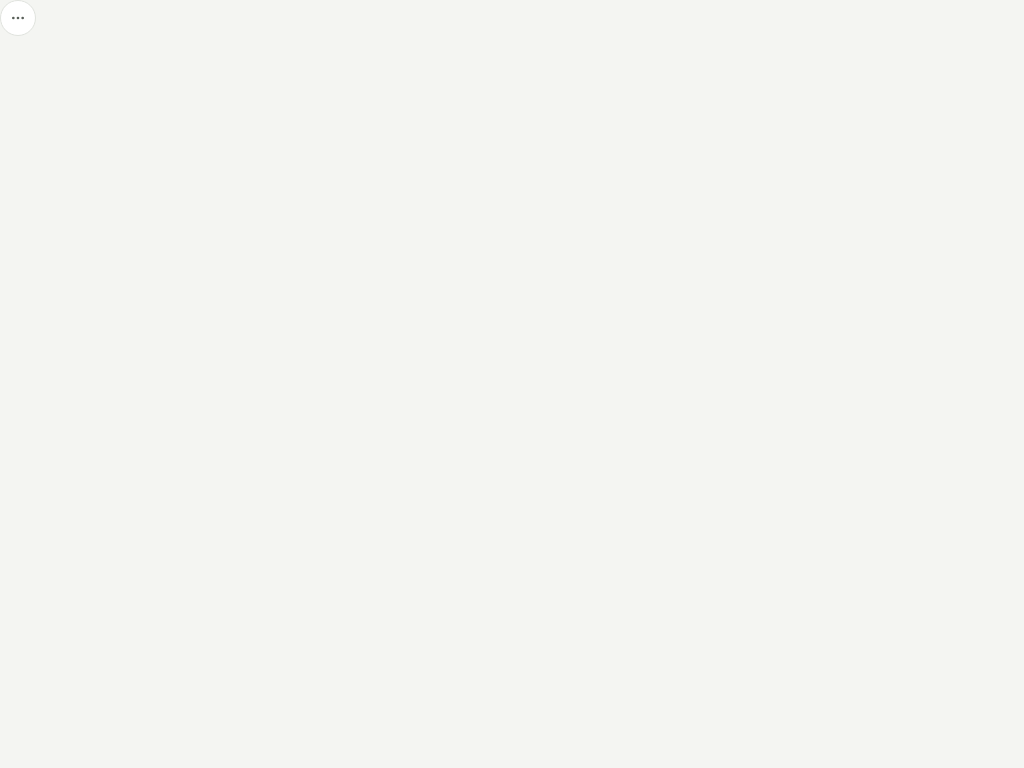
duplicating an event › sends the name, the new start and what to copy, then opens the copy as a draft
Press Enter in the button named "More for Hack Night 04", box [0, 0, 36, 36]
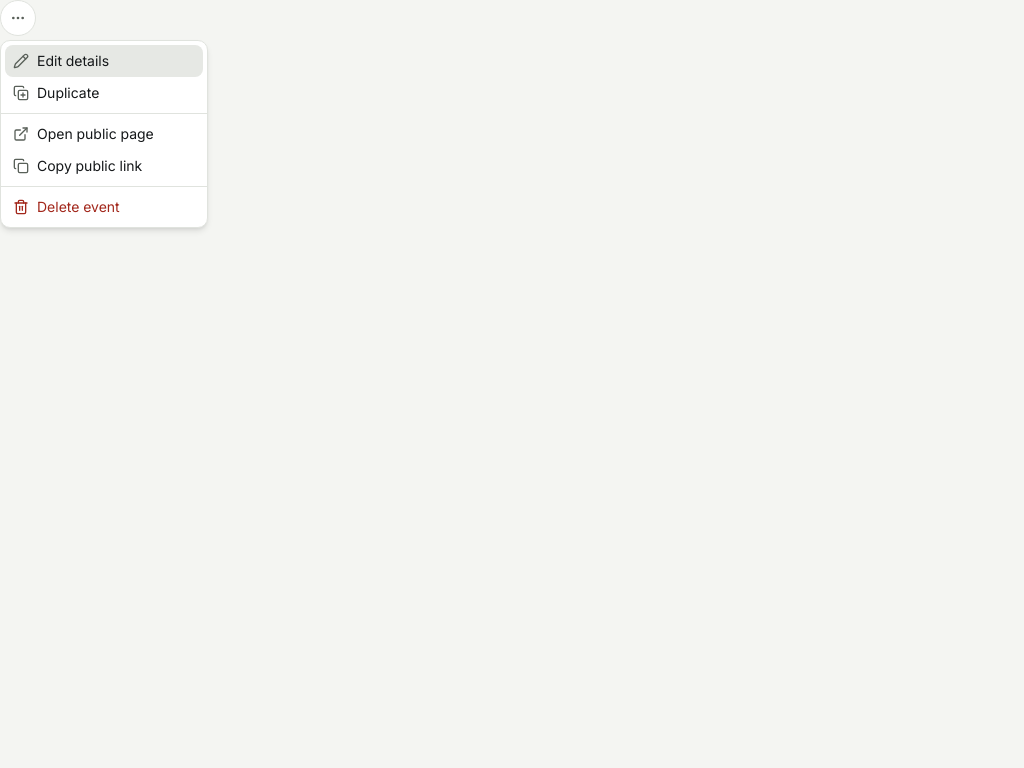
Click the menu item "Duplicate" at [56, 92], box [13, 84, 99, 101]
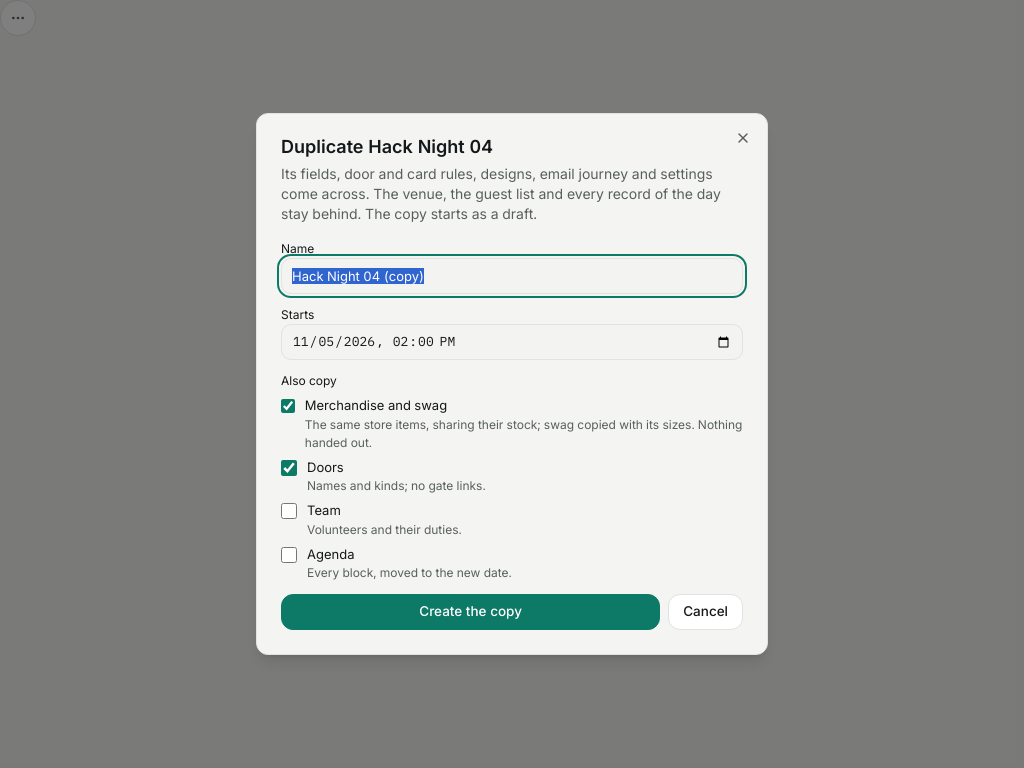
Replace the text in the field labelled "Name" with "  Hack Night 05 " at [512, 276], box [281, 258, 743, 294]
Replace the text in the field labelled "Starts" with "2026-12-04T18:30" at [512, 342], box [281, 324, 743, 360]
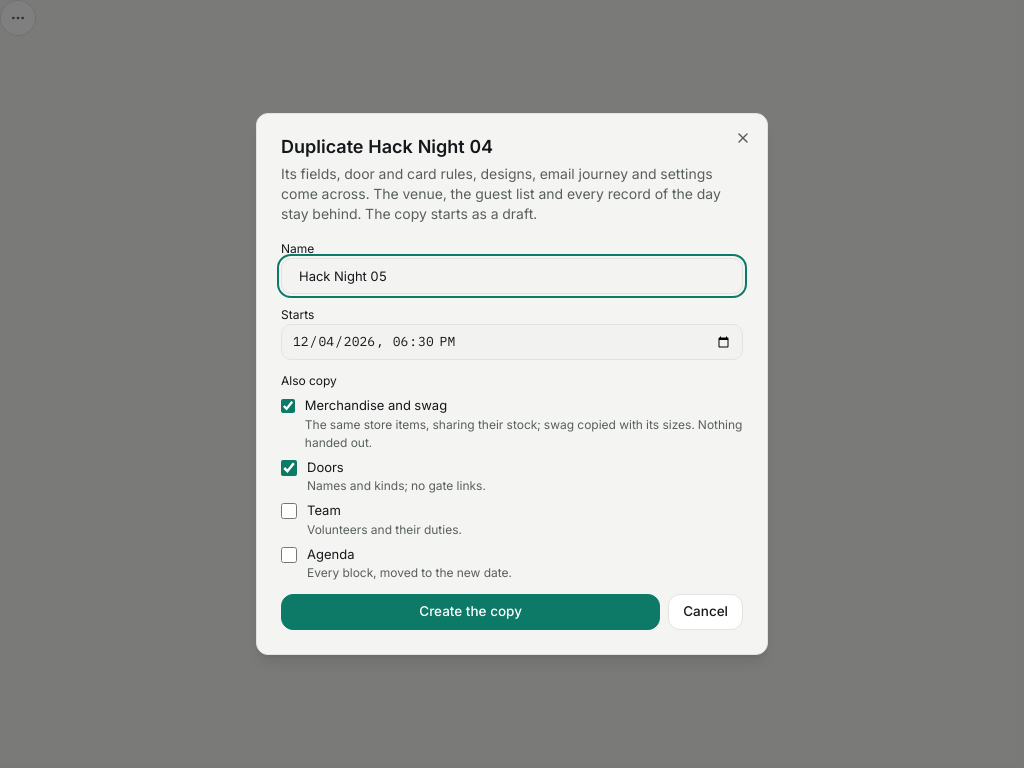
Click the checkbox labelled "Merchandise and swag" at [288, 406], box [281, 398, 295, 414]
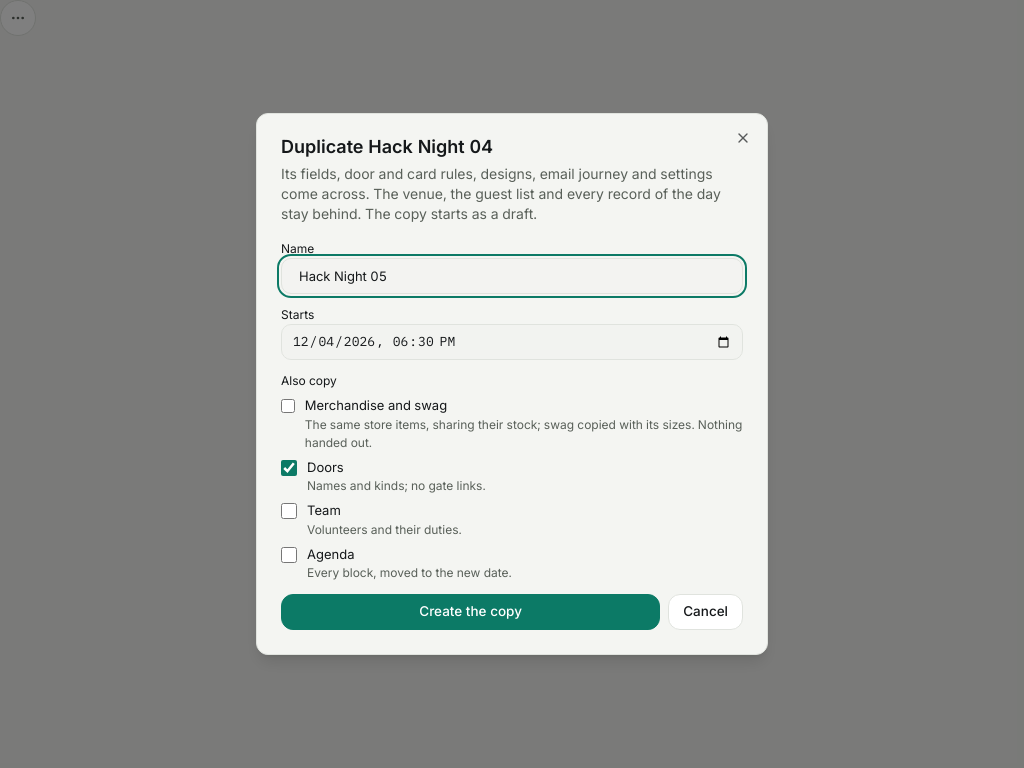
Click the checkbox labelled "Team Volunteers and their duties." at [289, 511], box [281, 503, 297, 519]
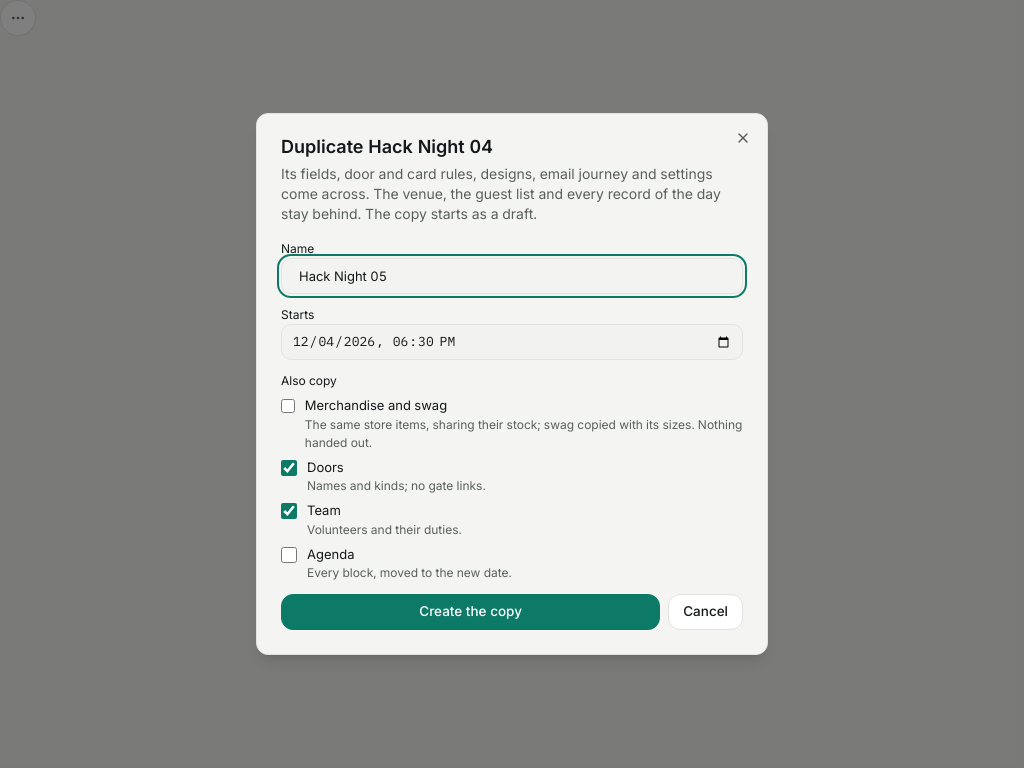
Click the button "Create the copy" at [471, 612], box [281, 594, 660, 630]
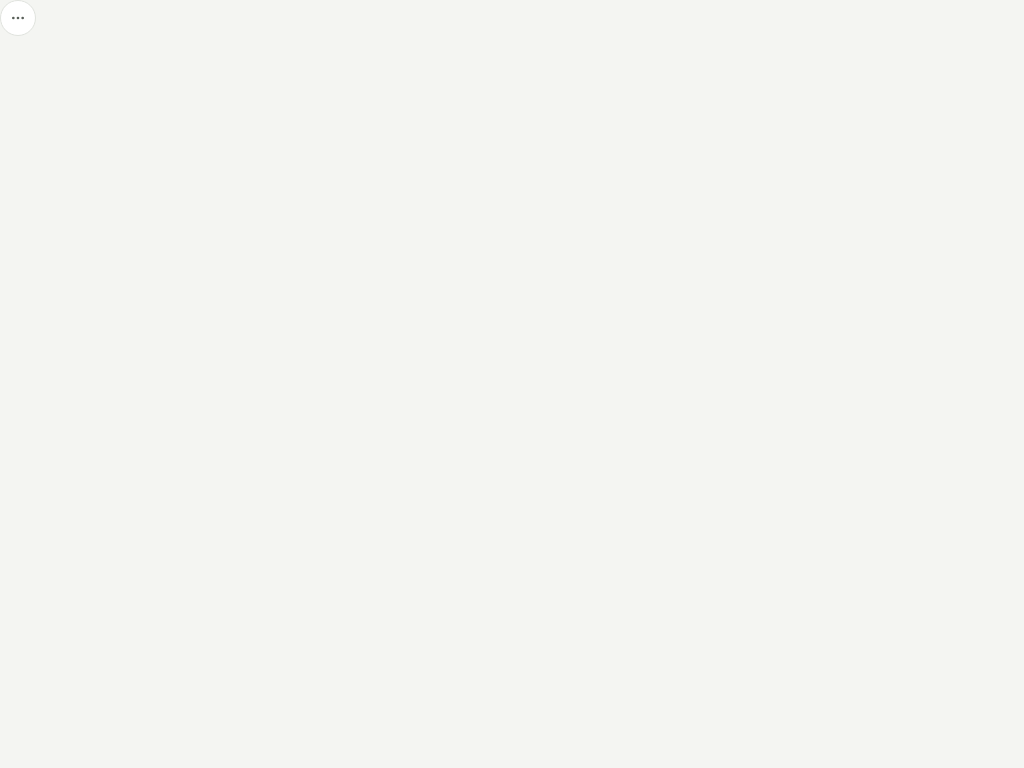
Expected: the dialog is gone
